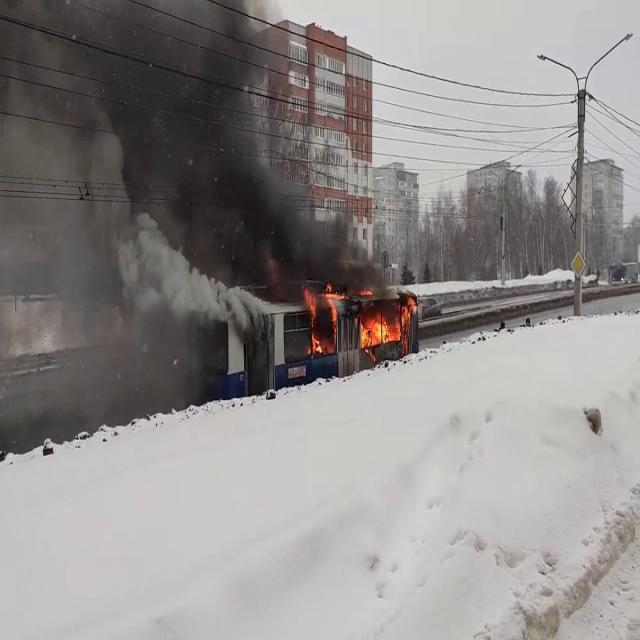Fire: (357, 292, 418, 352), (302, 280, 345, 350)
Smoke: (0, 0, 232, 414), (171, 30, 385, 312)
